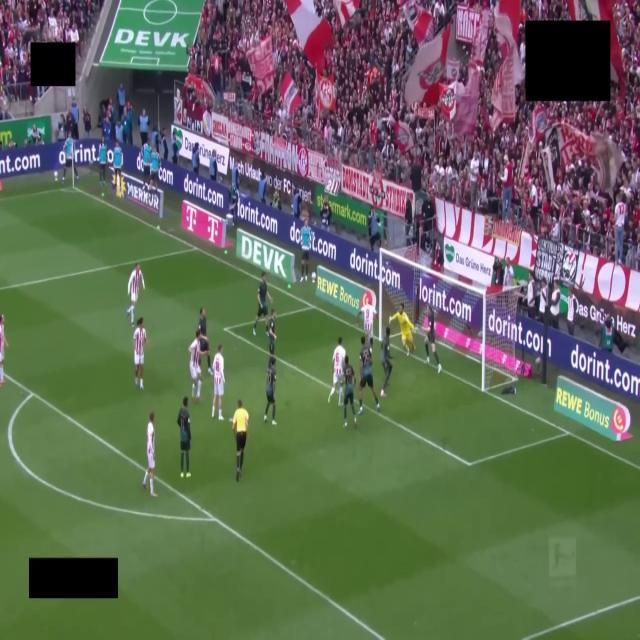player: (359, 336, 379, 414), (389, 304, 414, 355), (253, 272, 272, 335), (328, 337, 345, 405), (177, 397, 191, 478), (143, 412, 156, 497), (425, 305, 441, 373), (127, 264, 144, 327), (133, 318, 147, 390), (198, 308, 212, 375), (212, 344, 224, 420), (344, 356, 356, 428), (189, 330, 201, 401), (264, 356, 276, 425), (381, 327, 392, 397), (359, 304, 376, 347), (0, 314, 8, 387), (267, 308, 276, 355)
referee: (232, 400, 248, 481)
